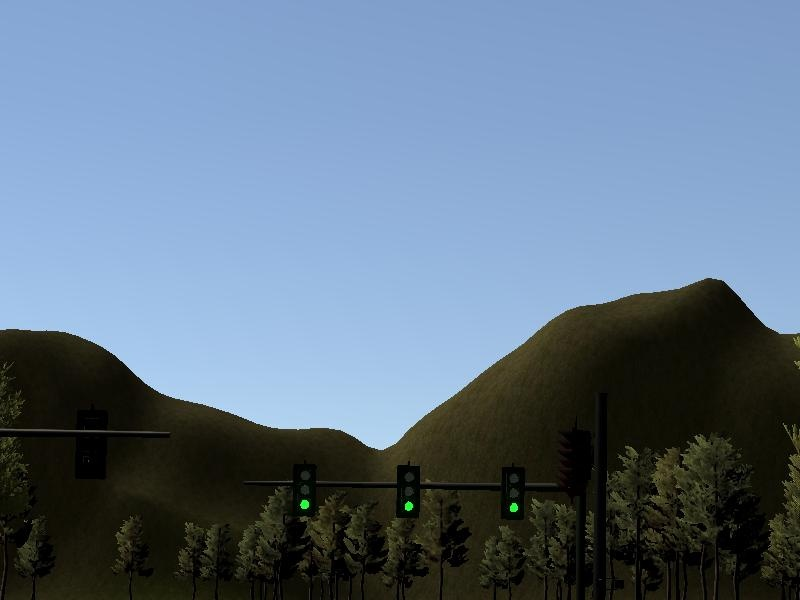GREEN: (495, 461, 533, 527), (289, 461, 321, 522), (394, 461, 423, 523)
